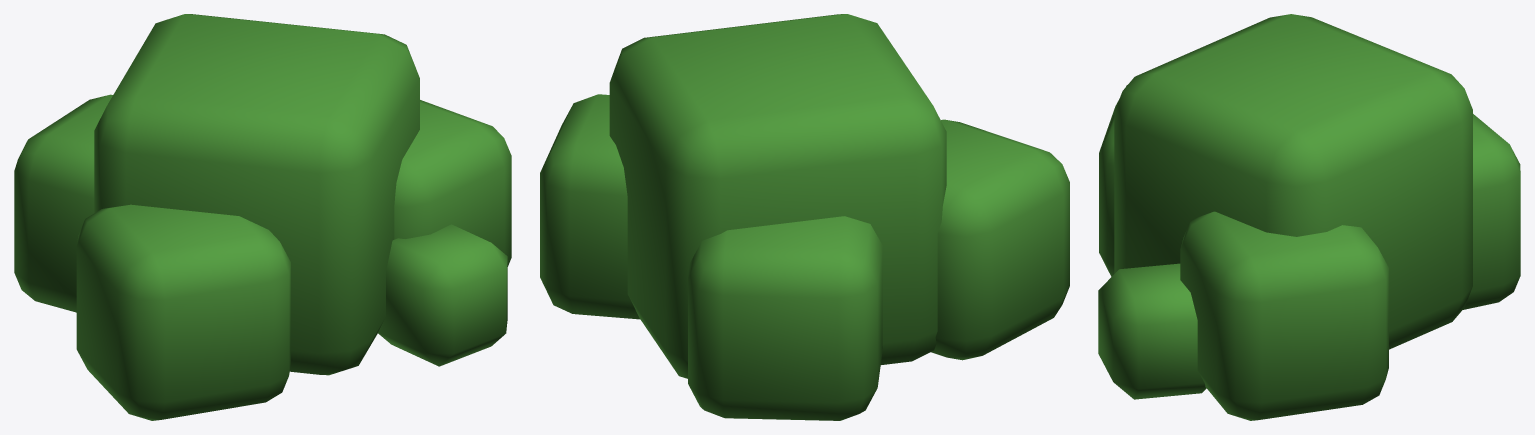
Rendered from plant_bush_2.glb.
3 renders of one model, left to right at view 1: azimuth 30°, elevation 25°; view 2: azimuth 150°, elevation 25°; view 3: azimuth 270°, elevation 25°, orthographic. The views are drawn at different scales.
Parts seen in each view (by area): view 1: plant_bush_2; view 2: plant_bush_2; view 3: plant_bush_2.
Part boxes in pixels (<box>): plant_bush_2: <box>14,14,511,420</box>; plant_bush_2: <box>540,14,1069,420</box>; plant_bush_2: <box>1098,14,1520,420</box>.
Bounding box in the file's own units: 2.2 × 1.25 × 1.88.
